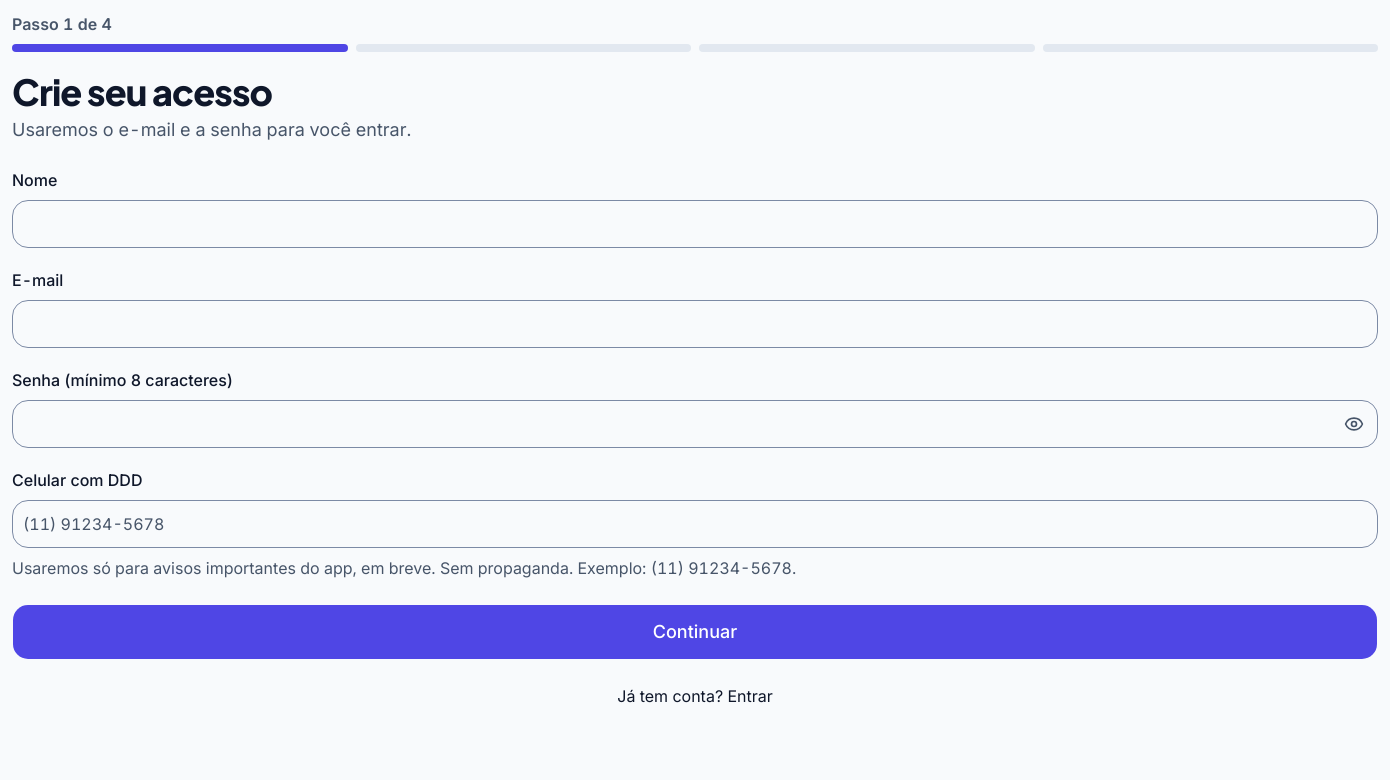
SignupWizard › começa no passo 1 e não avança com dados inválidos
Expected: the text "Passo 1 de 4" is shown, [12,14,112,34]
Click the button "Continuar" at [695, 632], box [12,604,1378,660]
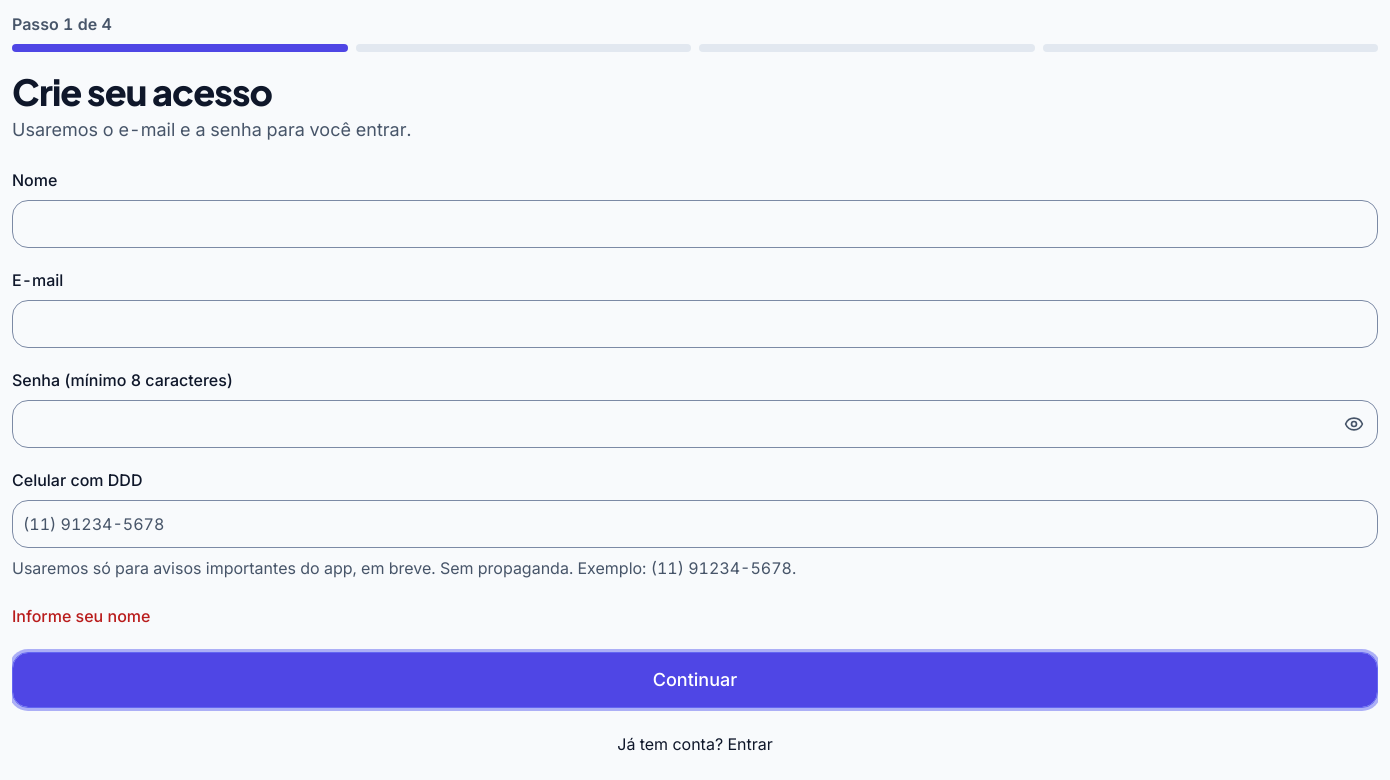
Expected: the text "Passo 1 de 4" is shown, [12,14,112,34]
Result: the message shows "nome" at [12,606,150,626]
